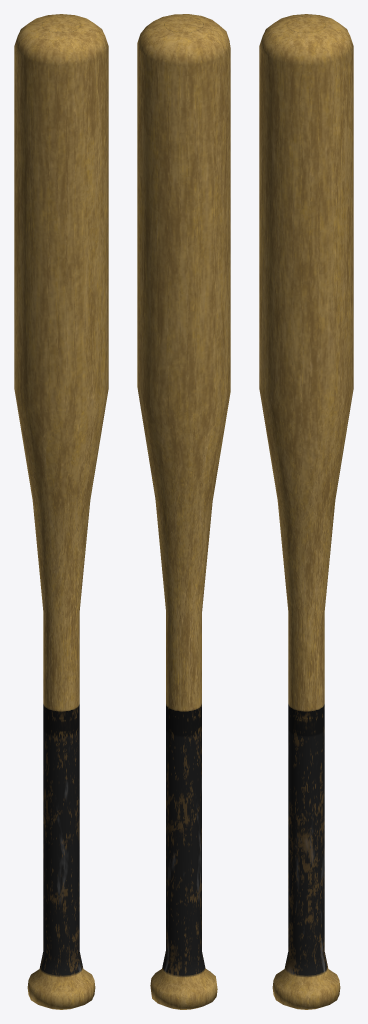
The model's file is baseball_bat.glb.
3 views of the same model, side by side, from view 1: azimuth 90°, elevation 25°; view 2: azimuth 150°, elevation 25°; view 3: azimuth 270°, elevation 25° (orthographic).
Visible parts, largest first — view 1: BaseballBat; view 2: BaseballBat; view 3: BaseballBat.
Part boxes in pixels (bbox=[...]): BaseballBat: bbox=[14, 14, 108, 1009]; BaseballBat: bbox=[137, 14, 230, 1009]; BaseballBat: bbox=[259, 14, 353, 1009].
Size of the model in its own units: 0.0711 by 0.8121 by 0.0711.
Materials: 1 (1 with a texture image).
